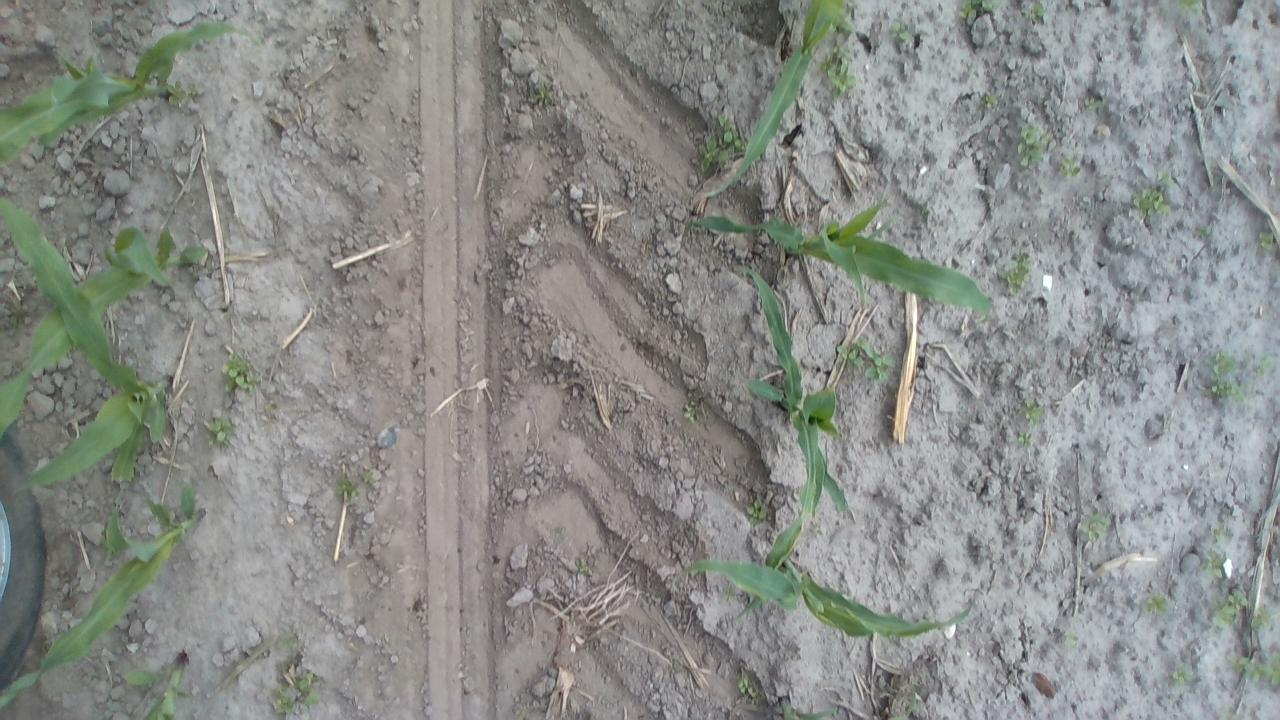Maize: (2, 471, 214, 715), (4, 204, 181, 496), (0, 219, 213, 435), (730, 257, 854, 626), (680, 192, 996, 322), (0, 19, 253, 163), (686, 529, 977, 641), (706, 0, 861, 202), (122, 651, 200, 720), (768, 689, 939, 719)
Weeds: (697, 114, 744, 174), (1128, 167, 1176, 220), (839, 336, 894, 382), (1202, 348, 1246, 404), (268, 672, 324, 716), (818, 47, 858, 98), (1230, 644, 1278, 685), (220, 353, 262, 399), (1014, 121, 1052, 171), (993, 252, 1033, 296), (1210, 586, 1246, 630), (1074, 509, 1110, 544), (202, 413, 236, 450), (1199, 549, 1231, 580), (956, 0, 1002, 21), (334, 472, 364, 503), (746, 496, 773, 530), (1, 302, 32, 330), (526, 80, 554, 109), (1141, 590, 1171, 616), (1247, 600, 1273, 630), (166, 80, 196, 105), (1168, 664, 1202, 686), (1021, 396, 1048, 423), (574, 548, 596, 580), (736, 672, 760, 701), (278, 631, 308, 654), (1058, 154, 1084, 180), (1020, 0, 1048, 24), (682, 396, 706, 424), (896, 693, 920, 719), (1250, 354, 1274, 380), (1082, 92, 1106, 116), (892, 18, 912, 46), (1209, 522, 1232, 546), (361, 466, 382, 492), (1256, 229, 1276, 256), (1174, 0, 1203, 18), (1192, 222, 1215, 243), (262, 396, 282, 420), (1058, 628, 1078, 650), (981, 90, 1000, 112), (1016, 429, 1034, 449), (722, 583, 738, 604), (1219, 704, 1243, 718), (916, 200, 932, 219), (808, 524, 826, 538)
